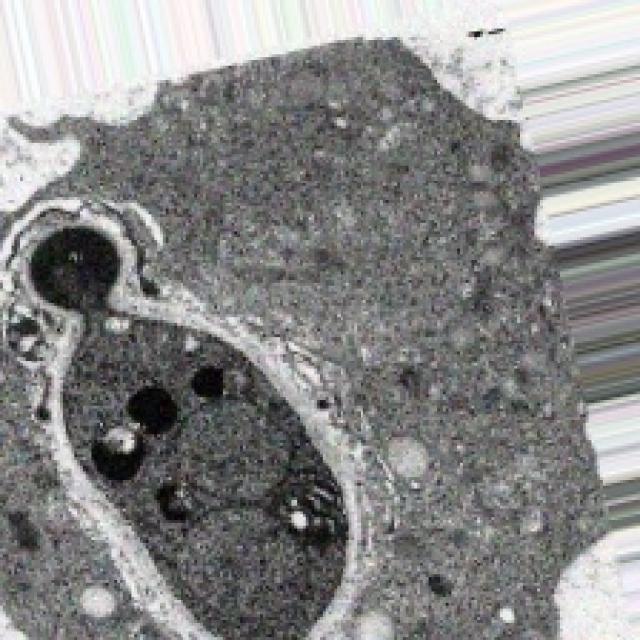Rod_bacteria: (0, 25, 614, 637)
